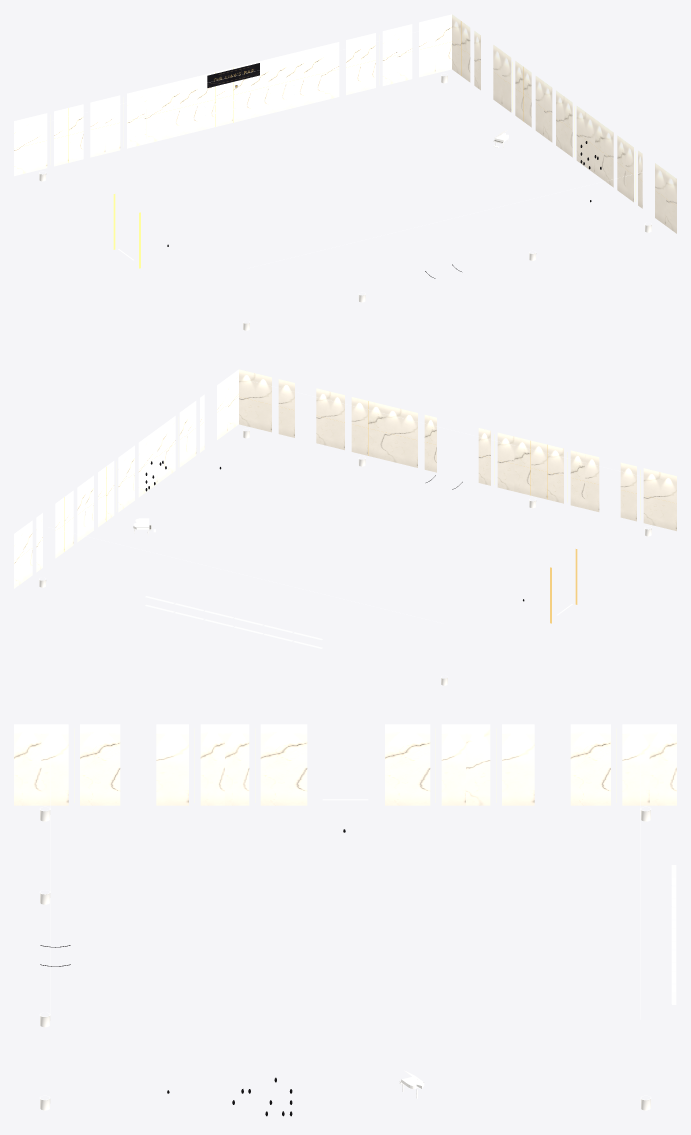
Rendered from lb5_lounge_p5.glb.
3 views of the same model, one above another, from view 1: azimuth 30°, elevation 25°; view 2: azimuth 150°, elevation 25°; view 3: azimuth 270°, elevation 25° (orthographic). The views are drawn at different scales.
Visible parts, largest first — view 1: lb5_lounge_p5; view 2: lb5_lounge_p5; view 3: lb5_lounge_p5.
Boxes of the visible parts, <box> form: lb5_lounge_p5: <box>14,14,676,330</box>; lb5_lounge_p5: <box>14,369,676,685</box>; lb5_lounge_p5: <box>14,724,676,1116</box>.
Size of the model in its own units: 72.12 by 9.99 by 64.
12 materials, 5 textured.
